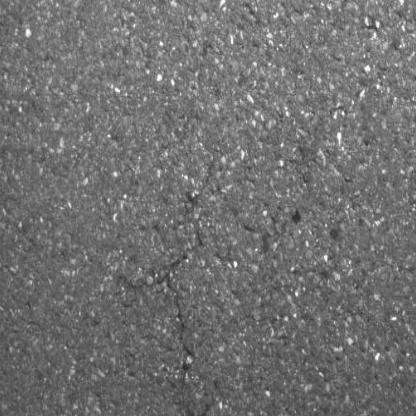Cracks: (113, 159, 219, 396)
